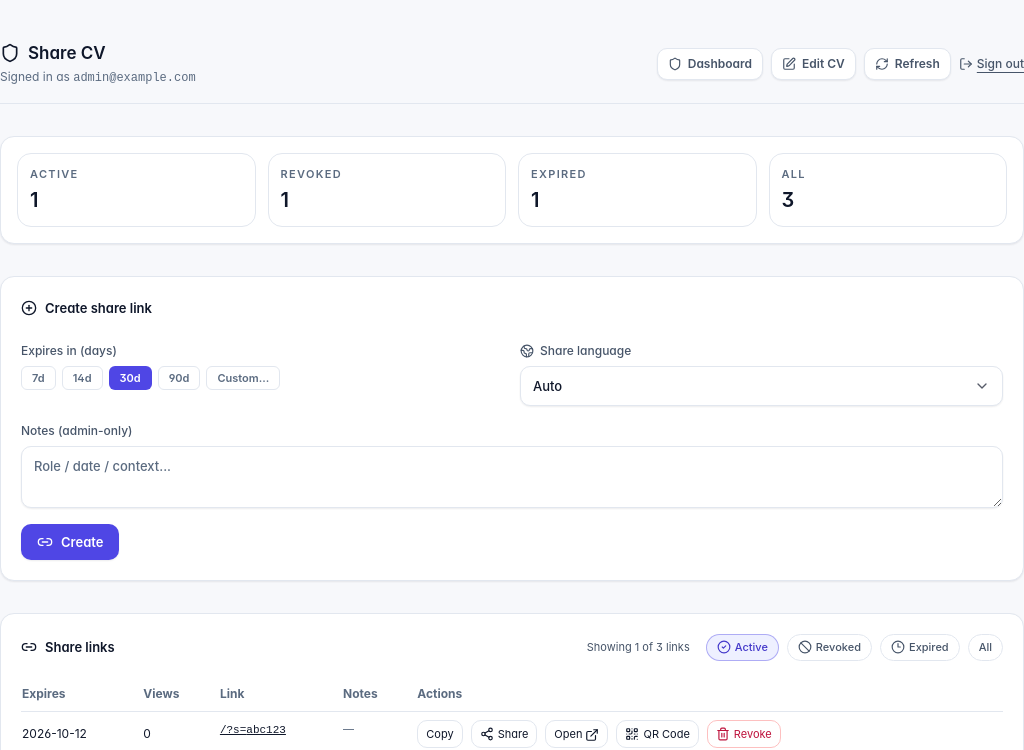
Test: AdminShareRoute › clicking Custom chip reveals the expiry number input
Click the button "Custom…".
click(243, 378)  # box [206,366,280,390]
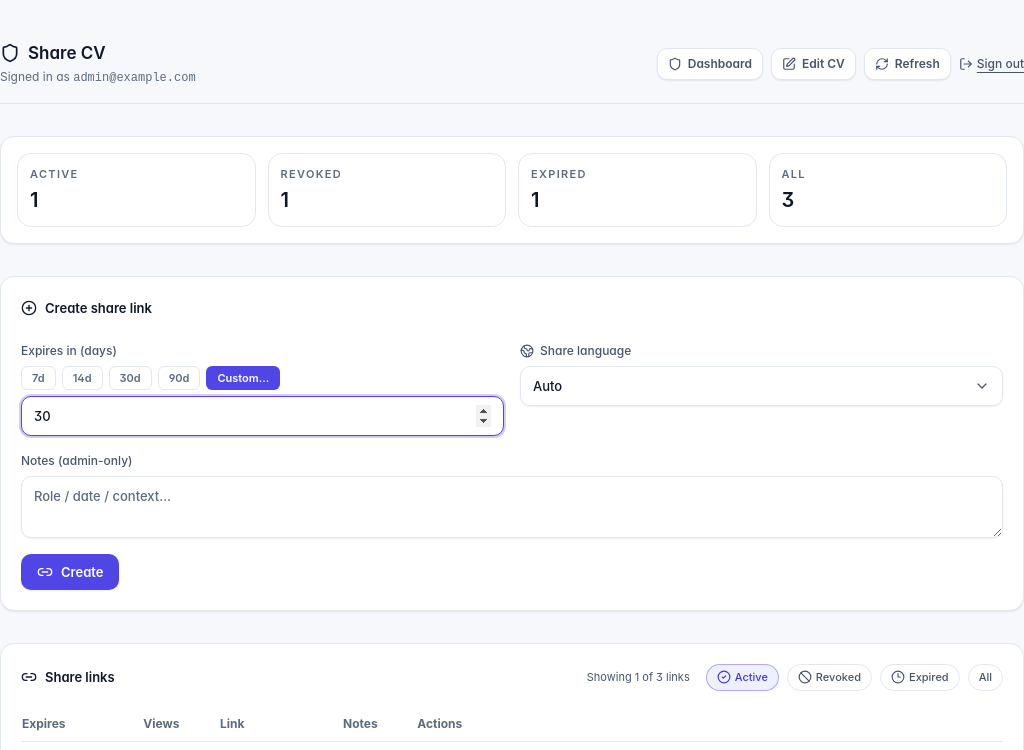
Now the number field named "expiresInDays" is shown, box [21,396,504,436]
